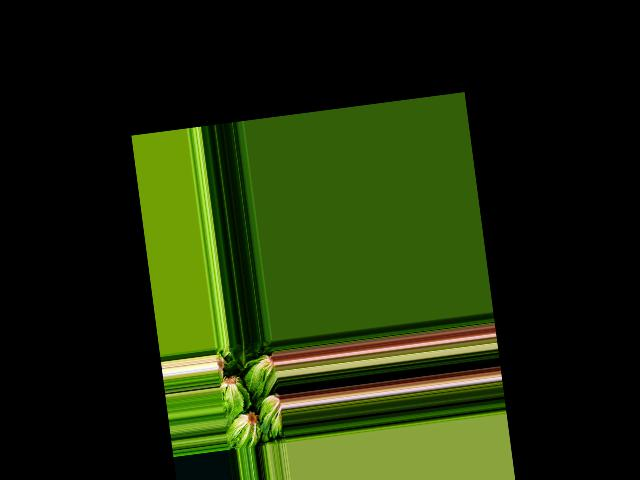lettuce: (228, 341, 256, 369)
